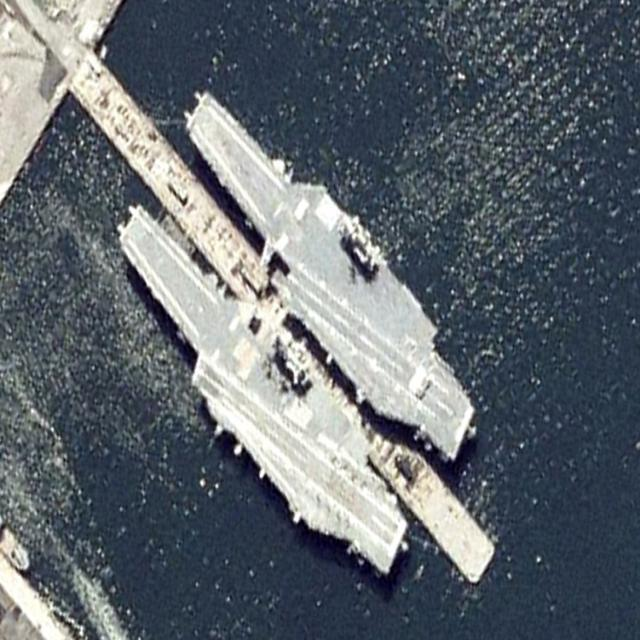Aircraft Carrier: (91, 162, 431, 607), (159, 49, 497, 495)
Dock: (70, 52, 497, 580)
